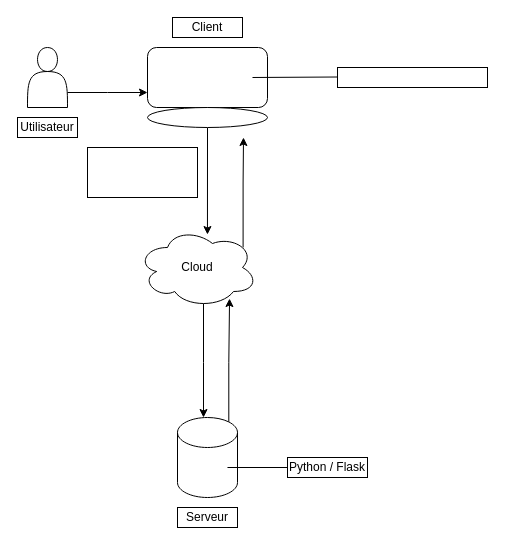
This 505x545 diagram has some shape labels left out. The shapes that lost their labels are listed below. From the top down, each one's centre as x and y in pixels, then its label:
[412,77]: HTML / CSS / JavaScript
[142,172]: Audio Langue_source Langue_target
